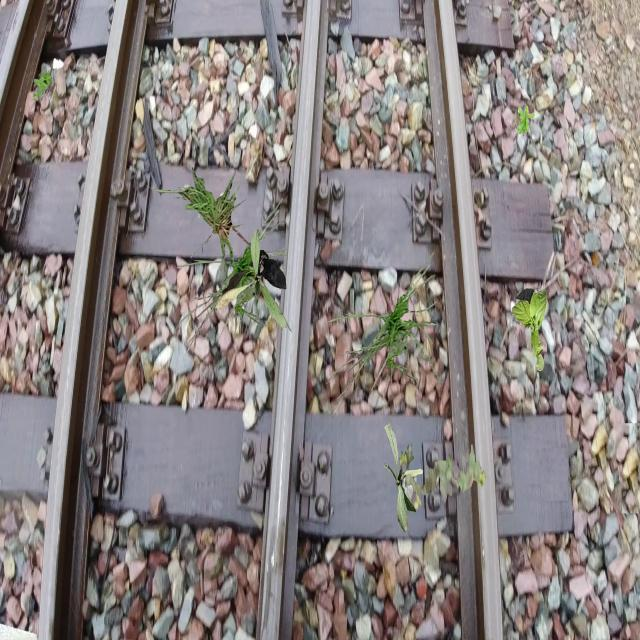Plant: (175, 198, 294, 362), (326, 252, 444, 416), (144, 167, 288, 286), (215, 229, 286, 328), (399, 442, 486, 510), (384, 423, 424, 533), (512, 288, 548, 372), (33, 69, 52, 102), (518, 105, 536, 137)
